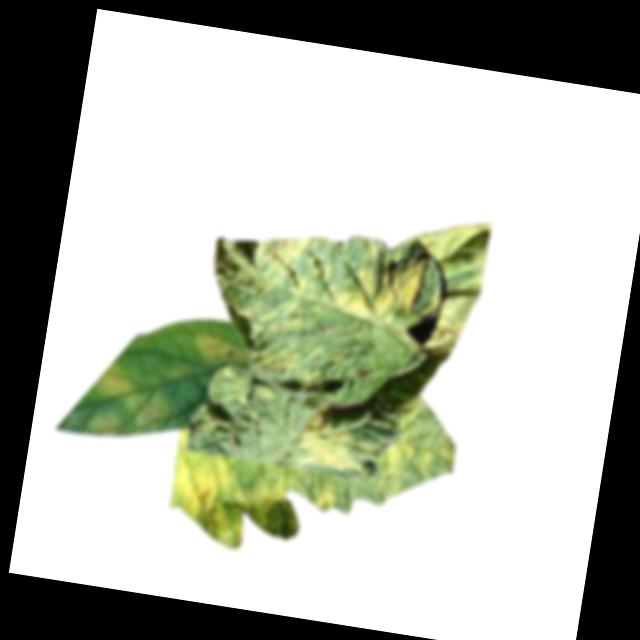Leaf_Mold: (162, 448, 288, 559), (376, 391, 465, 506), (328, 233, 430, 332), (81, 366, 177, 434), (293, 401, 370, 475), (244, 228, 319, 298), (416, 309, 468, 365), (191, 328, 251, 374), (254, 343, 297, 378), (82, 410, 120, 439), (309, 481, 341, 515)
